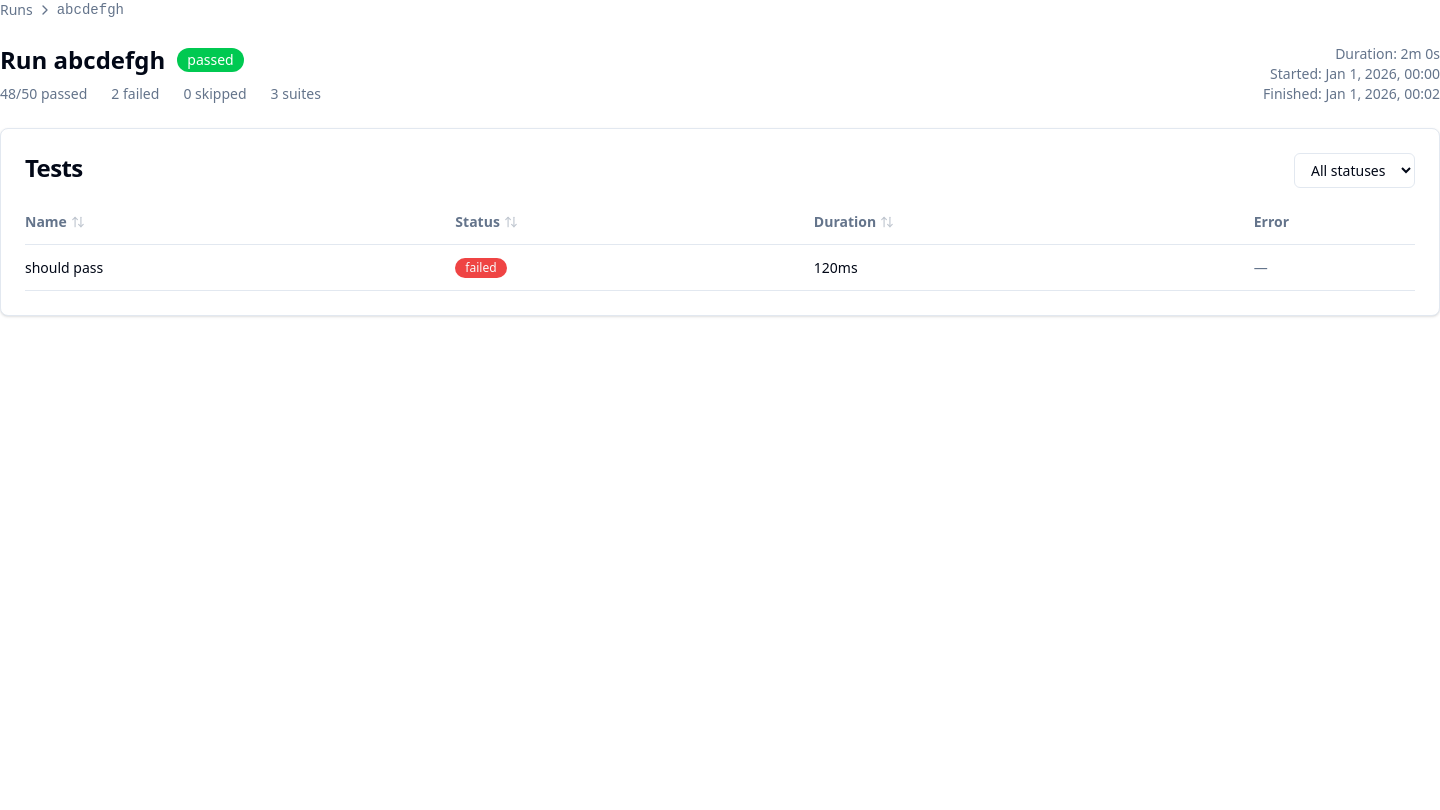
Test: RunDetailPage › test detail drawer › shows error name and category badges when present
Click the text "should pass" at point(64, 267), box [25,244,455,290]
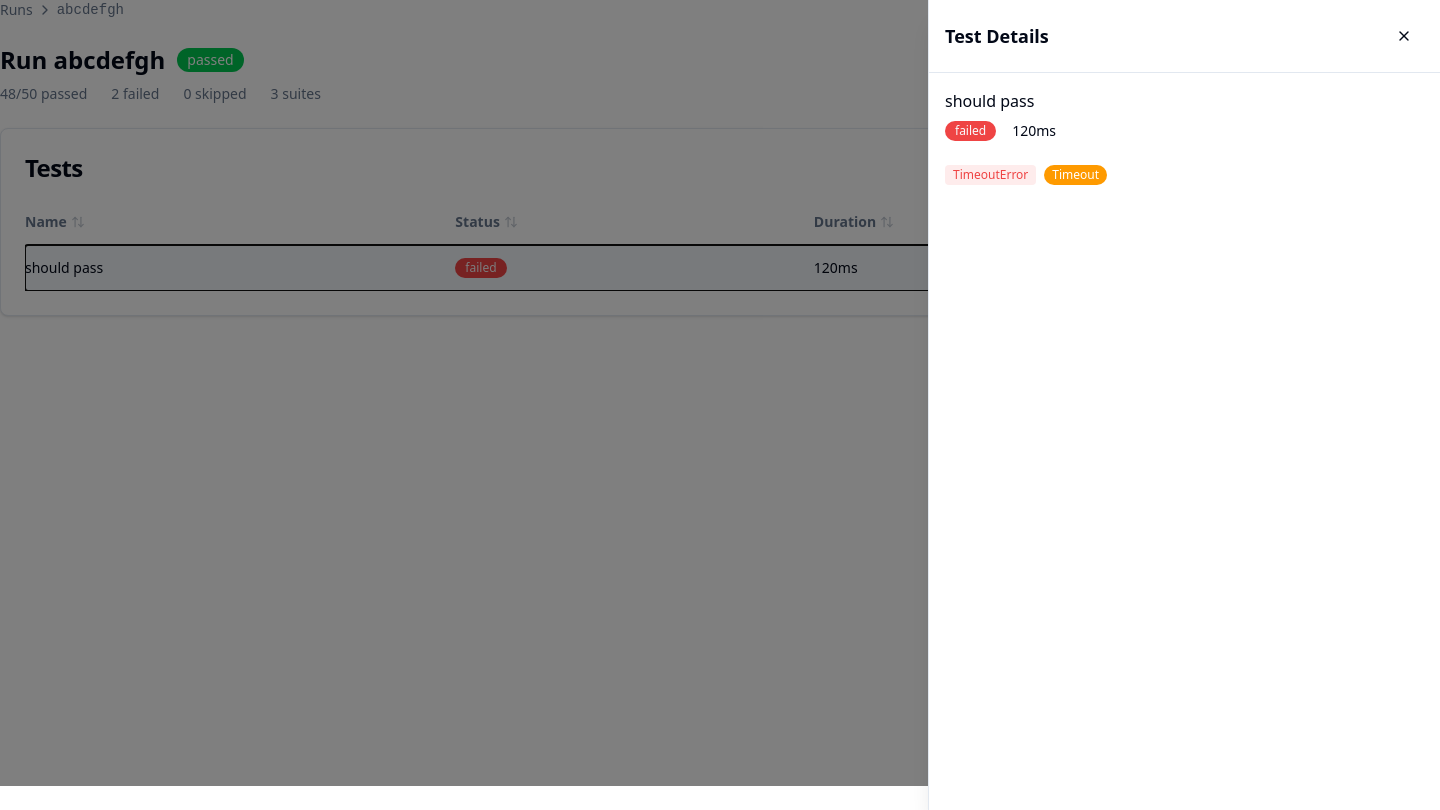
Now the text "TimeoutError" is shown, box [945,165,1036,185]
Now the text "Timeout" is shown, box [1044,165,1107,185]
